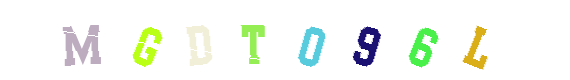0: (271, 0, 351, 80)
6: (382, 0, 462, 80)
9: (327, 0, 407, 80)
D: (216, 0, 296, 80)
G: (106, 0, 186, 80)
L: (436, 0, 516, 80)
M: (98, 0, 178, 80)
T: (245, 0, 325, 80)
